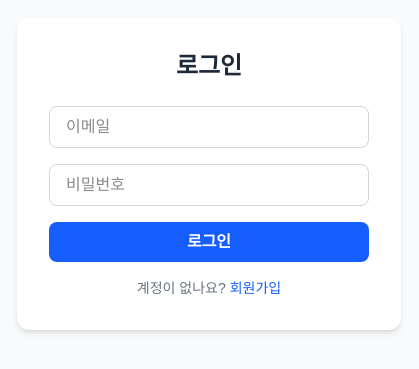
Test: LoginPage › 실패 시 에러 메시지가 표시된다
Type "test@example.com" into the field with placeholder "이메일" at [209, 127], box [49, 106, 369, 148]
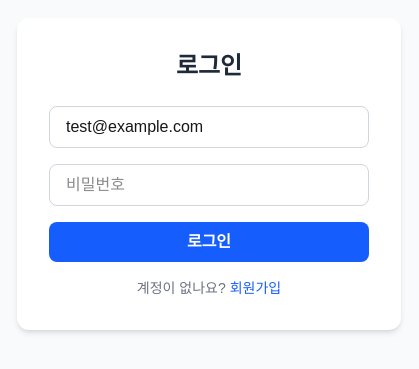
Type "wrong" into the password field with placeholder "비밀번호" at [209, 185], box [49, 164, 369, 206]
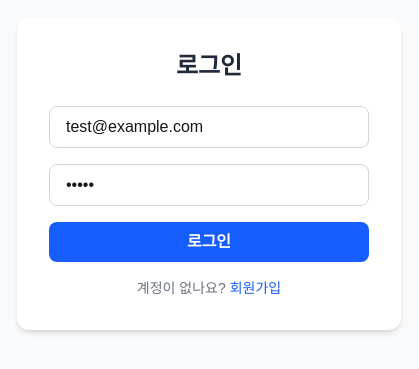
Click the button "로그인" at [209, 242], box [49, 222, 369, 262]
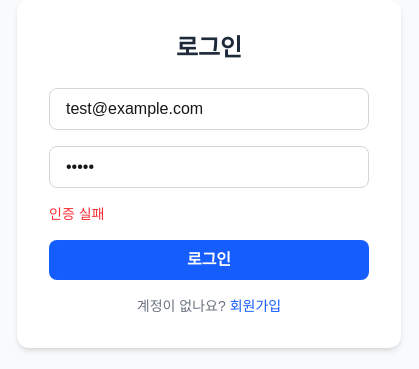
Now the text "인증 실패" is shown, box [49, 206, 104, 222]
